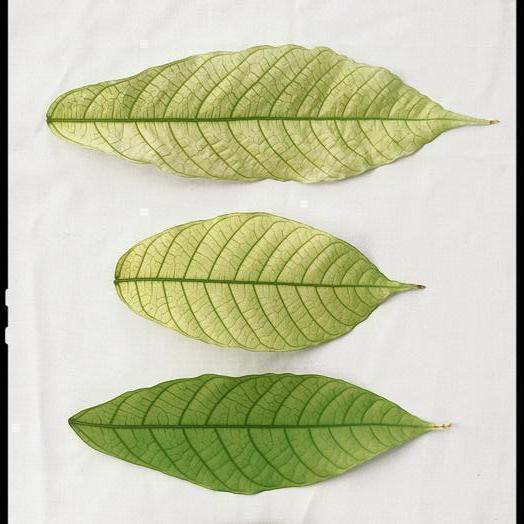Iron: (47, 45, 493, 182), (69, 373, 440, 494), (114, 212, 417, 351)
